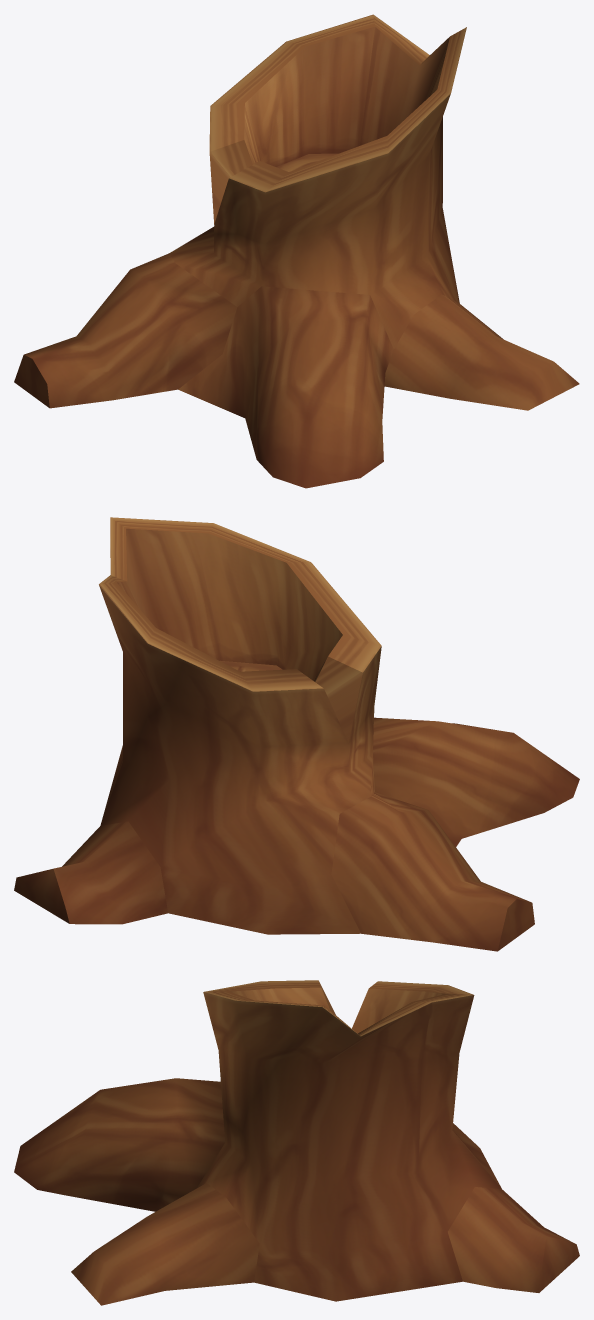
File: Tree Stump #2.fbx
3 views of the same model, one above another, from view 1: azimuth 30°, elevation 25°; view 2: azimuth 150°, elevation 25°; view 3: azimuth 270°, elevation 25° (orthographic). The views are drawn at different scales.
Visible parts, largest first — view 1: Tree Stump #2; view 2: Tree Stump #2; view 3: Tree Stump #2.
Part boxes in pixels (x1,y1,x2,y2): Tree Stump #2: (14,14,579,488); Tree Stump #2: (14,517,579,951); Tree Stump #2: (14,980,579,1305).
Size of the model in its own units: 103 by 66.89 by 115.
1 material, 1 textured.
